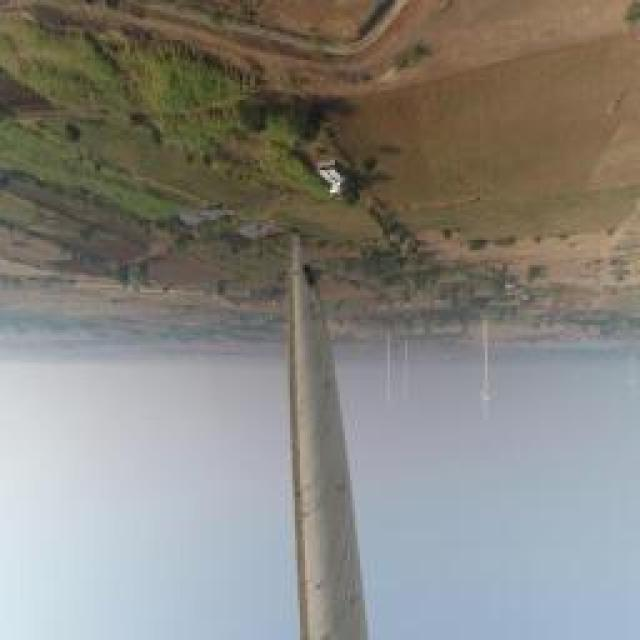Oil LEAKAGE: (293, 232, 368, 636), (300, 259, 317, 287)
